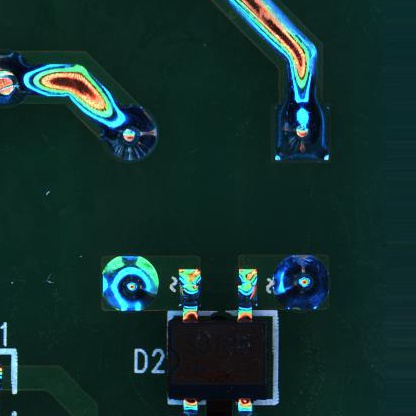spot: (96, 105, 164, 162), (270, 253, 332, 313), (100, 256, 164, 312), (276, 100, 331, 164)
